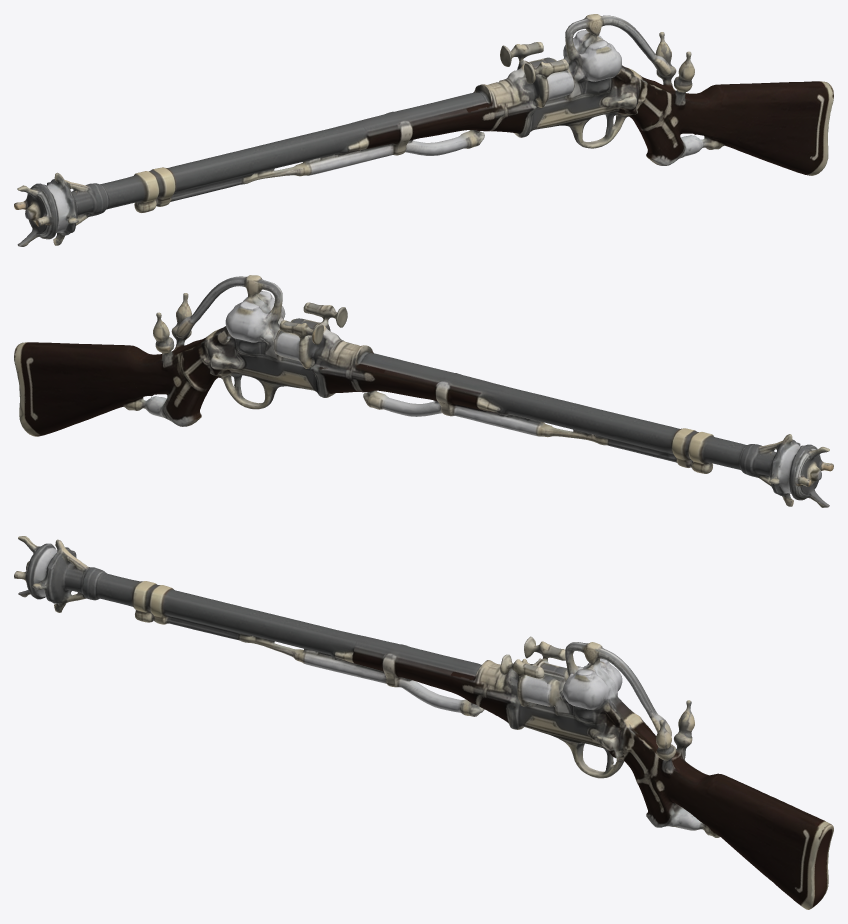
Rendered from hcl-gun-lowpoly.glb.
3 renders of one model, top to bottom at view 1: azimuth 30°, elevation 25°; view 2: azimuth 150°, elevation 25°; view 3: azimuth 330°, elevation 25°, orthographic.
Size of the model in its own units: 1.9 by 0.4749 by 0.1587.
1 material, 1 textured.
